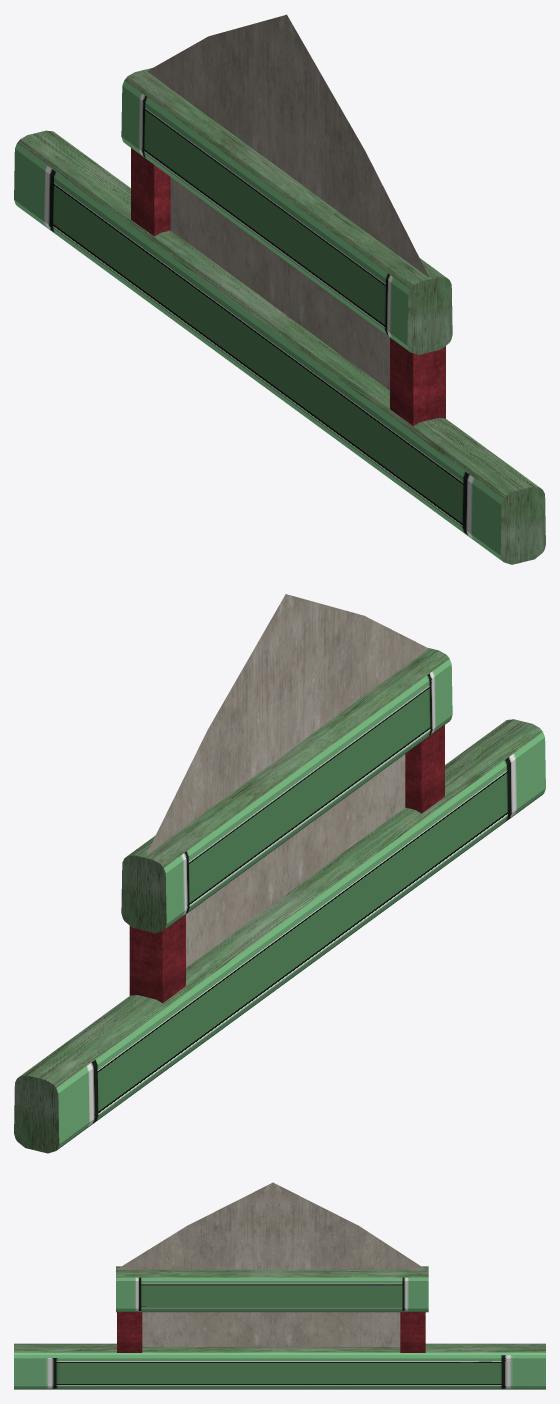
File: SM_R_MiddleBeam_3.fbx
3 views of the same model, one above another, from view 1: azimuth 30°, elevation 25°; view 2: azimuth 150°, elevation 25°; view 3: azimuth 270°, elevation 25° (orthographic). The views are drawn at different scales.
Visible parts, largest first — view 1: SM_R_MiddleBeam_3; view 2: SM_R_MiddleBeam_3; view 3: SM_R_MiddleBeam_3.
Boxes of the visible parts, bbox=[...] form: SM_R_MiddleBeam_3: bbox=[14, 14, 545, 564]; SM_R_MiddleBeam_3: bbox=[14, 594, 545, 1153]; SM_R_MiddleBeam_3: bbox=[14, 1182, 545, 1389].
Size of the model in its own units: 30 by 559 by 237.
Materials: 3 (3 with a texture image).
